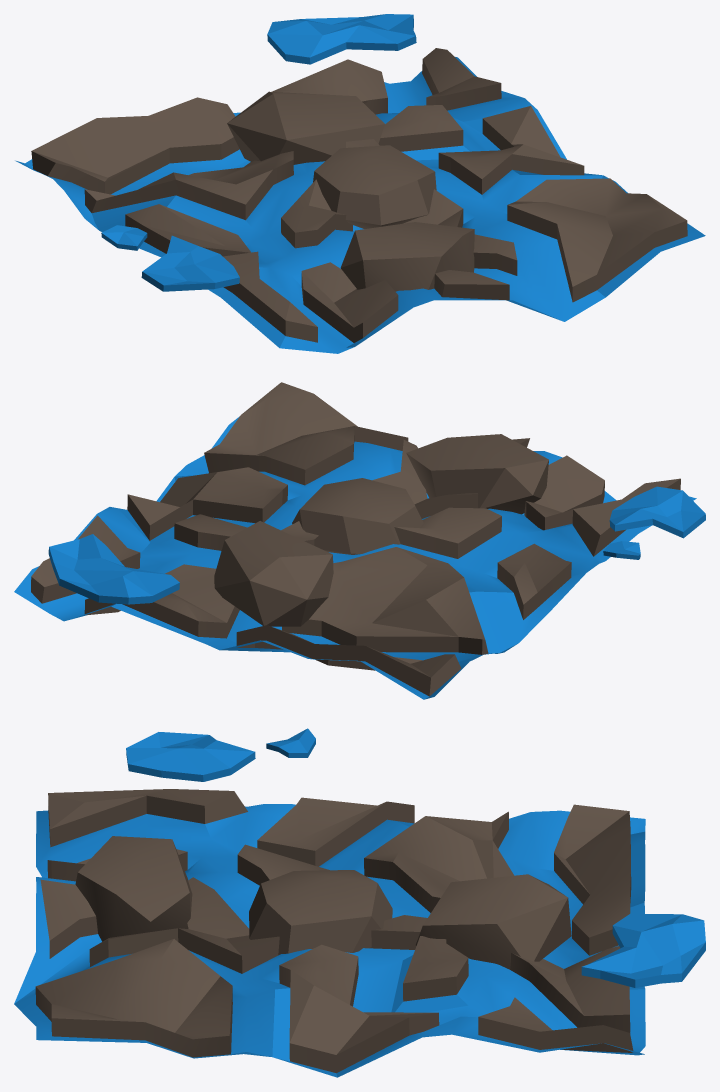
The model's file is Tile_Lava_Extinguished.fbx.
3 renders of one model, top to bottom at view 1: azimuth 30°, elevation 25°; view 2: azimuth 150°, elevation 25°; view 3: azimuth 270°, elevation 25°, orthographic. The views are drawn at different scales.
Parts seen in each view (by area): view 1: Plane.008; view 2: Plane.008; view 3: Plane.008.
Part boxes in pixels (bbox=[...]): Plane.008: bbox=[15, 14, 705, 353]; Plane.008: bbox=[14, 382, 705, 699]; Plane.008: bbox=[14, 728, 705, 1077].
Size of the model in its own units: 168 by 28.65 by 180.
Materials: 1 (1 with a texture image).
